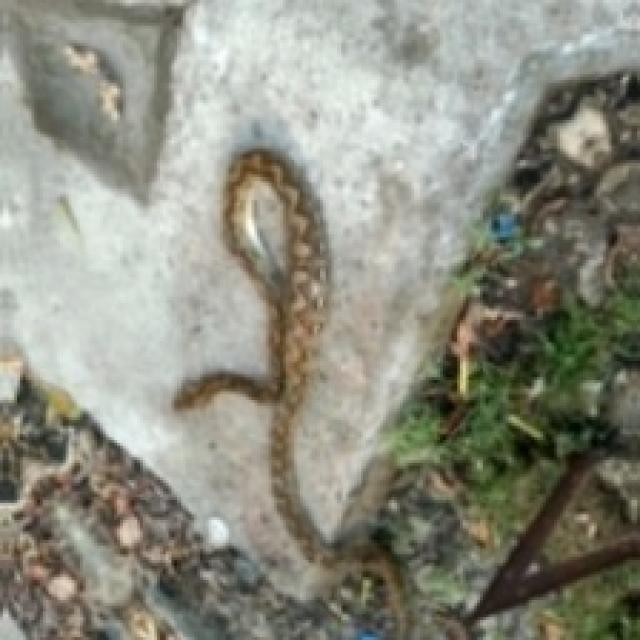reticulated python: (174, 151, 409, 637), (174, 151, 403, 637)
